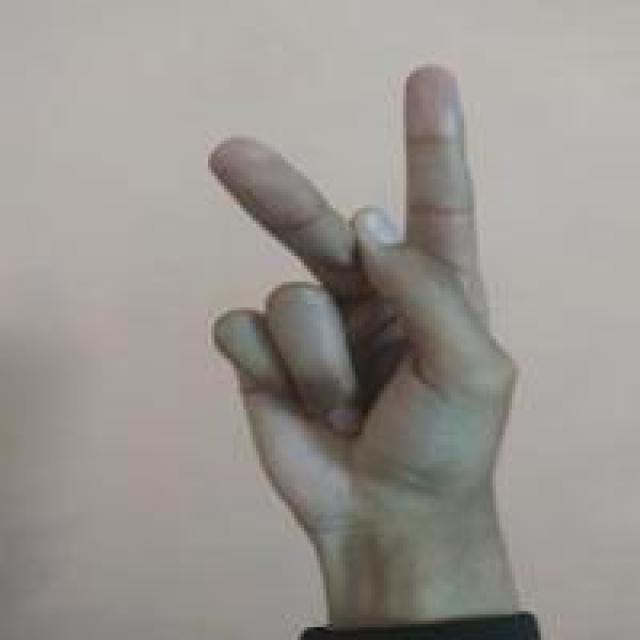K: (179, 59, 538, 536)
